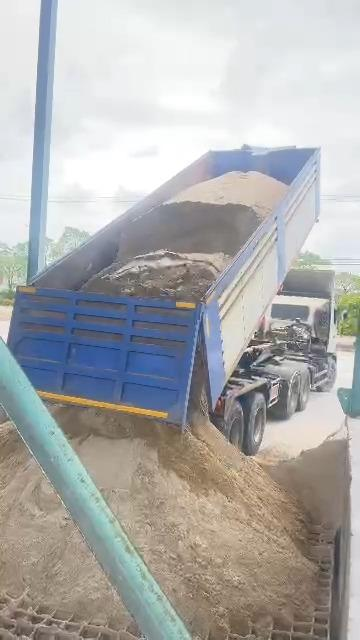sand: (55, 409, 315, 639), (0, 405, 128, 626), (83, 172, 287, 299), (245, 437, 348, 527)
